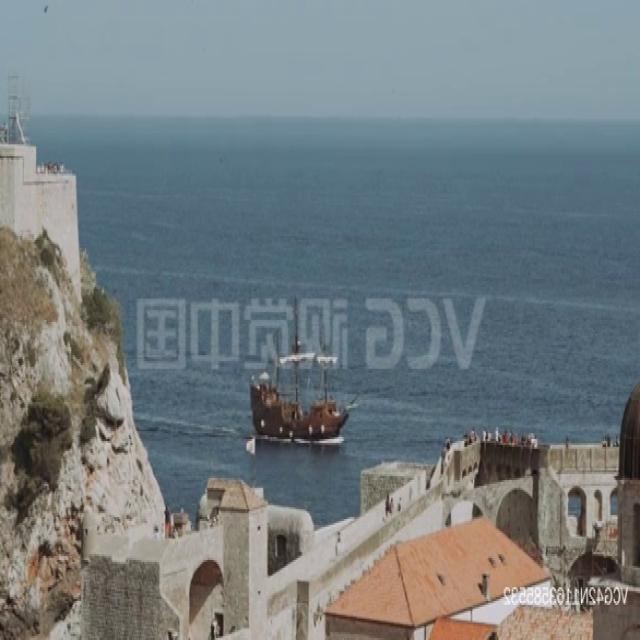sailboat: (248, 300, 360, 446)
